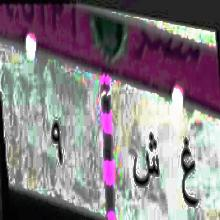9: (45, 115, 70, 170)
ghayn: (176, 135, 203, 219)
sheen: (132, 125, 162, 204)
